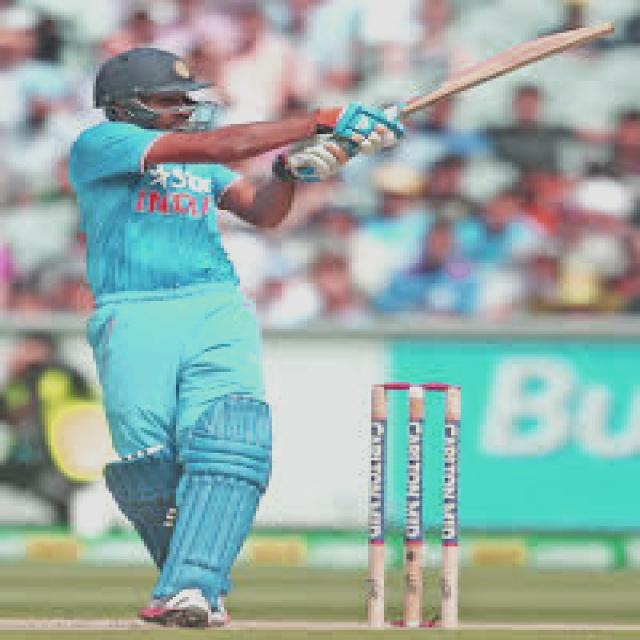toe: (584, 18, 624, 42)
